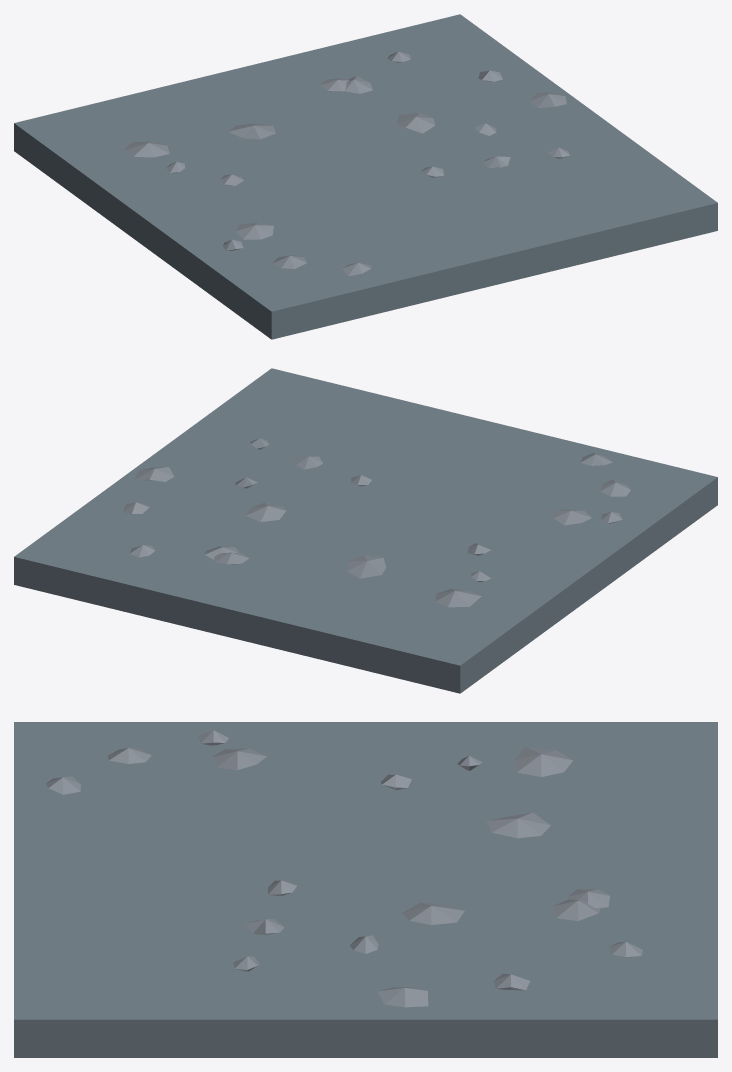
Rendered from cave_floor_wet.glb.
3 renders of one model, top to bottom at view 1: azimuth 30°, elevation 25°; view 2: azimuth 150°, elevation 25°; view 3: azimuth 270°, elevation 25°, orthographic. The views are drawn at different scales.
Parts seen in each view (by area): view 1: cave_floor_wet_Mesh; view 2: cave_floor_wet_Mesh; view 3: cave_floor_wet_Mesh.
Boxes of the visible parts, left/top/right/bottom form: cave_floor_wet_Mesh: left=14, top=14, right=717, bottom=339; cave_floor_wet_Mesh: left=14, top=368, right=717, bottom=693; cave_floor_wet_Mesh: left=14, top=722, right=717, bottom=1057.
Bounding box in the file's own units: 4 × 0.33 × 4.
